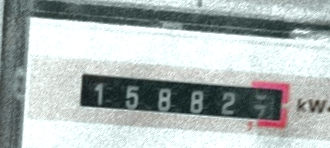1: (92, 77, 108, 107)
2: (219, 89, 238, 116)
5: (123, 81, 143, 113)
7: (252, 100, 266, 119)
8: (155, 84, 173, 113), (188, 86, 206, 115)
screen: (67, 56, 298, 136)
